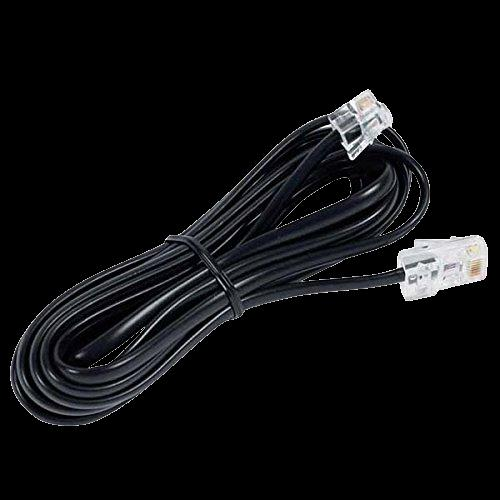cable: (11, 90, 489, 426)
